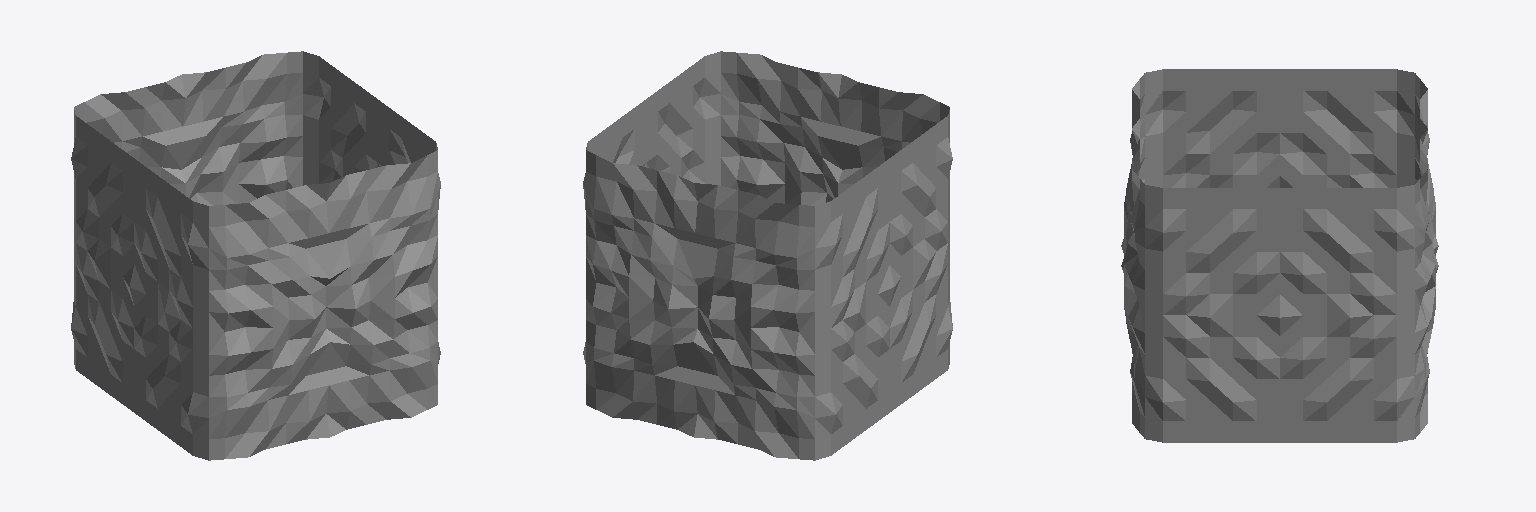
File: 0000_mid.obj
The picture shows the model from 3 angles: view 1: azimuth 30°, elevation 25°; view 2: azimuth 150°, elevation 25°; view 3: azimuth 270°, elevation 25°; orthographic projection.
Parts seen in each view (by area): view 1: tile_0000_mid_Cube; view 2: tile_0000_mid_Cube; view 3: tile_0000_mid_Cube.
Part boxes in pixels (left/top/right/bottom): tile_0000_mid_Cube: left=71, top=51, right=440, bottom=460; tile_0000_mid_Cube: left=583, top=51, right=952, bottom=460; tile_0000_mid_Cube: left=1121, top=69, right=1438, bottom=442.
Bounding box in the file's own units: 1.04 × 1 × 1.13.